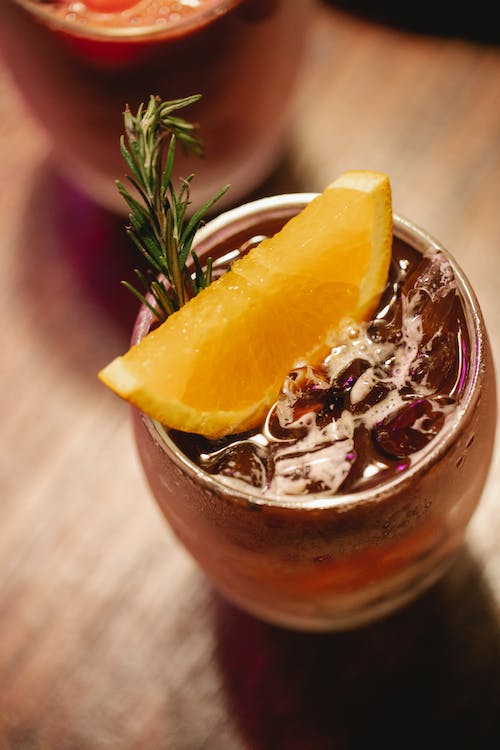alcohol: (125, 191, 500, 633), (0, 0, 309, 220)
